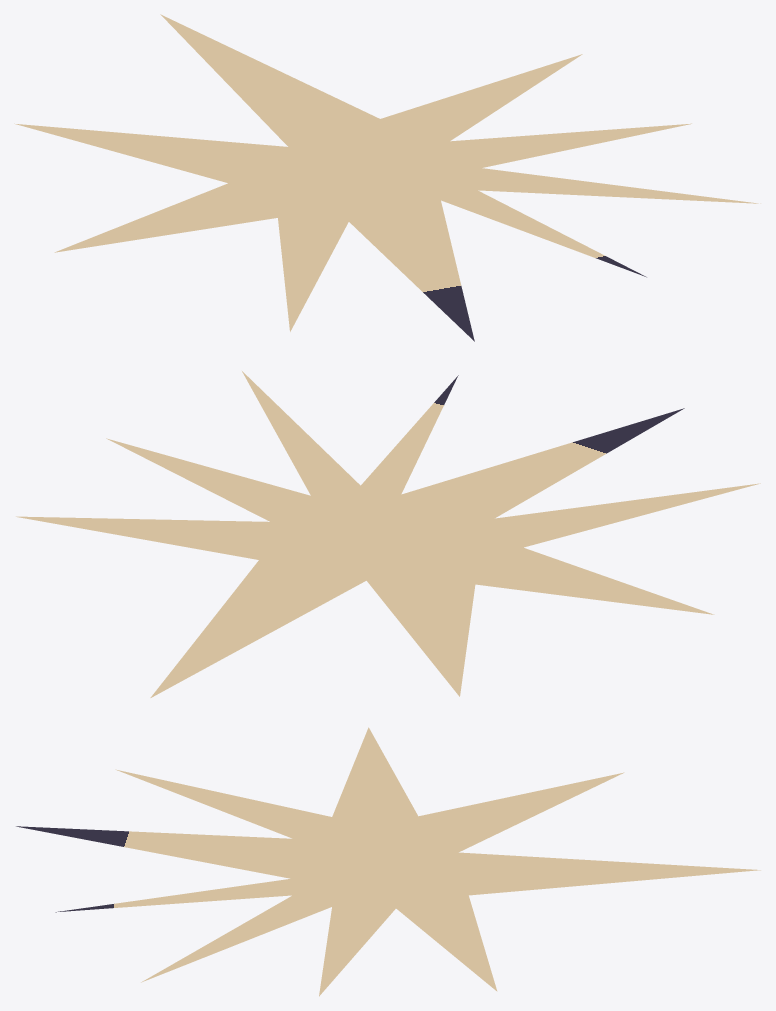
Rendered from west_tree05_sd.FBX.
3 views of the same model, one above another, from view 1: azimuth 30°, elevation 25°; view 2: azimuth 150°, elevation 25°; view 3: azimuth 270°, elevation 25° (orthographic). The views are drawn at different scales.
Visible parts, largest first — view 1: west_tree05_sd; view 2: west_tree05_sd; view 3: west_tree05_sd.
Boxes of the visible parts, x1=… form: west_tree05_sd: x1=14, y1=14, x2=760, y2=341; west_tree05_sd: x1=16, y1=371, x2=760, y2=697; west_tree05_sd: x1=16, y1=727, x2=760, y2=996.
Size of the model in its own units: 1709 by 0.000175 by 2003.
